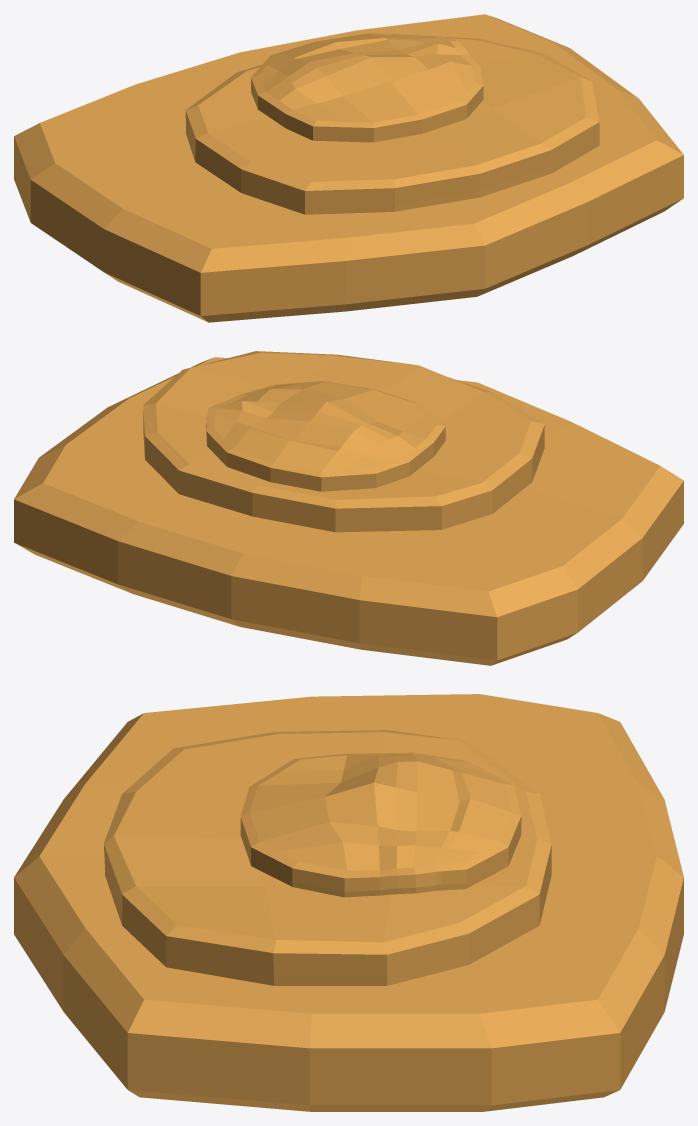
The model's file is roccia_204.fbx.
3 views of the same model, one above another, from view 1: azimuth 30°, elevation 25°; view 2: azimuth 150°, elevation 25°; view 3: azimuth 270°, elevation 25° (orthographic). The views are drawn at different scales.
Visible parts, largest first — view 1: roccia_204; view 2: roccia_204; view 3: roccia_204.
Boxes of the visible parts, x1,y1,x2,y2 form: roccia_204: (14, 14, 683, 322); roccia_204: (14, 351, 683, 665); roccia_204: (14, 694, 683, 1111).
Bounding box in the file's own units: 98.19 × 24.18 × 80.1.
